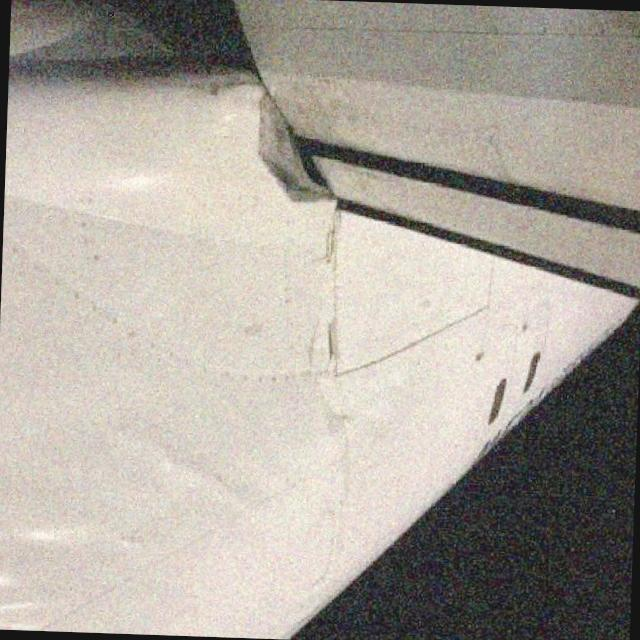dent: (317, 381, 375, 443), (0, 574, 48, 629), (22, 523, 92, 558), (107, 168, 161, 204)
